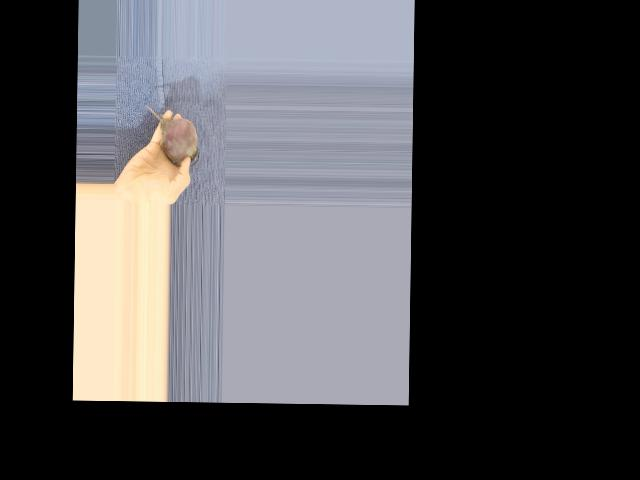beet: (144, 104, 200, 166)
